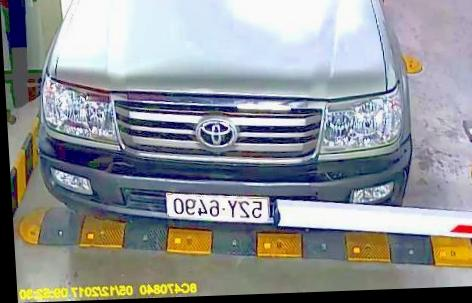License_Plate: (165, 193, 275, 225)
